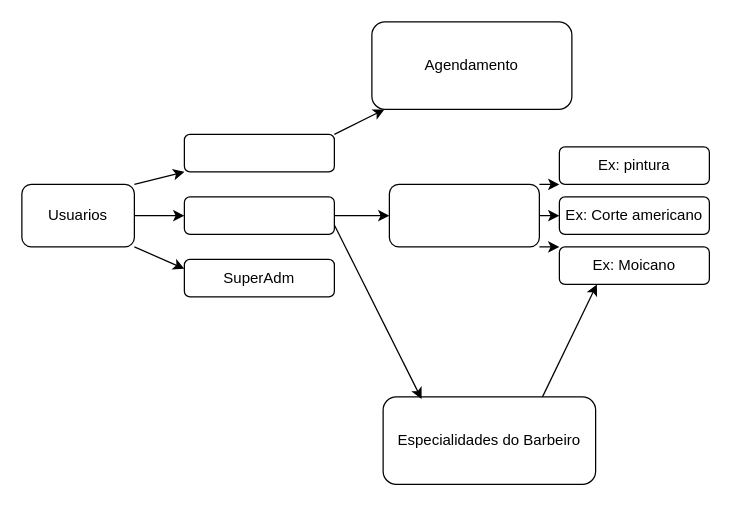
Image size: 731x506. Some labels were removed from this diagram. The shapes that lost their labels are listed below. From the top down, each one's centre as x and y in pixels, then its label:
At point (258, 152): "Cliente".
At point (258, 215): "Barbeiro".
At point (463, 215): "Especialidades".
